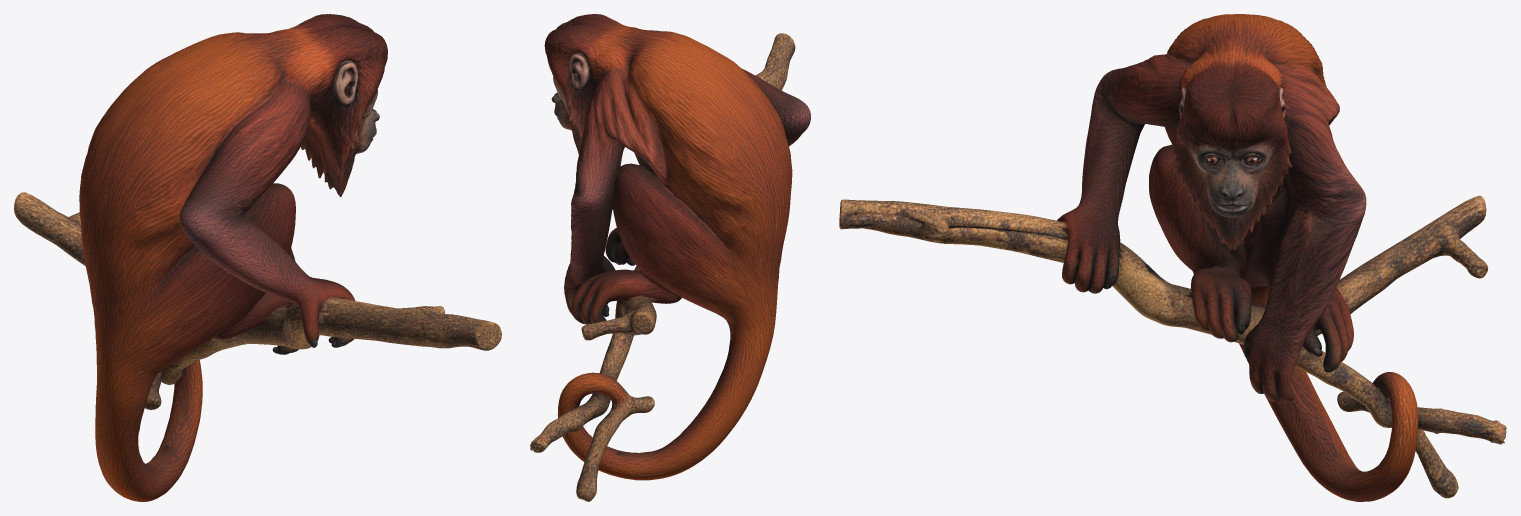
The model's file is mamiferos.glb.
The picture shows the model from 3 angles, left to right: view 1: azimuth 30°, elevation 25°; view 2: azimuth 150°, elevation 25°; view 3: azimuth 270°, elevation 25°; orthographic projection. The views are drawn at different scales.
Parts seen in each view (by area): view 1: tripo_node_56de3221-dcfb-46b1-a09e-c1953148eeb3; view 2: tripo_node_56de3221-dcfb-46b1-a09e-c1953148eeb3; view 3: tripo_node_56de3221-dcfb-46b1-a09e-c1953148eeb3.
Boxes of the visible parts, x1=… form: tripo_node_56de3221-dcfb-46b1-a09e-c1953148eeb3: x1=14, y1=14, x2=501, y2=501; tripo_node_56de3221-dcfb-46b1-a09e-c1953148eeb3: x1=530, y1=14, x2=810, y2=501; tripo_node_56de3221-dcfb-46b1-a09e-c1953148eeb3: x1=839, y1=14, x2=1506, y2=501.
Bounding box in the file's own units: 0.4804 × 0.786 × 0.9806.
1 material, 1 textured.
